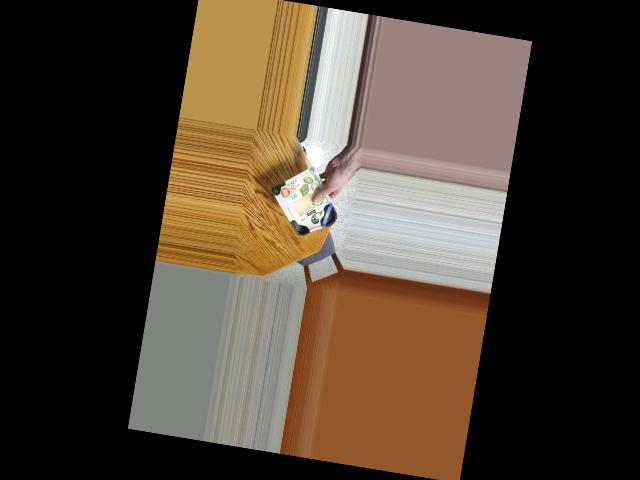cheese: (270, 172, 344, 241)
